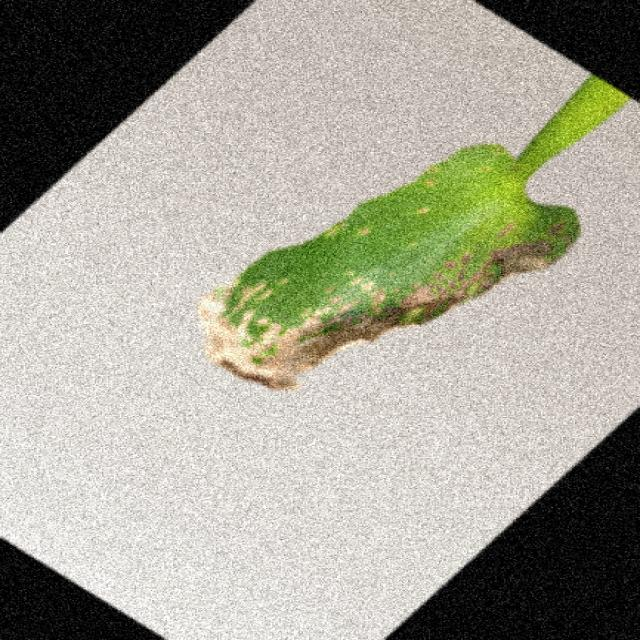daun berpenyakit bercak: (198, 77, 628, 390)
